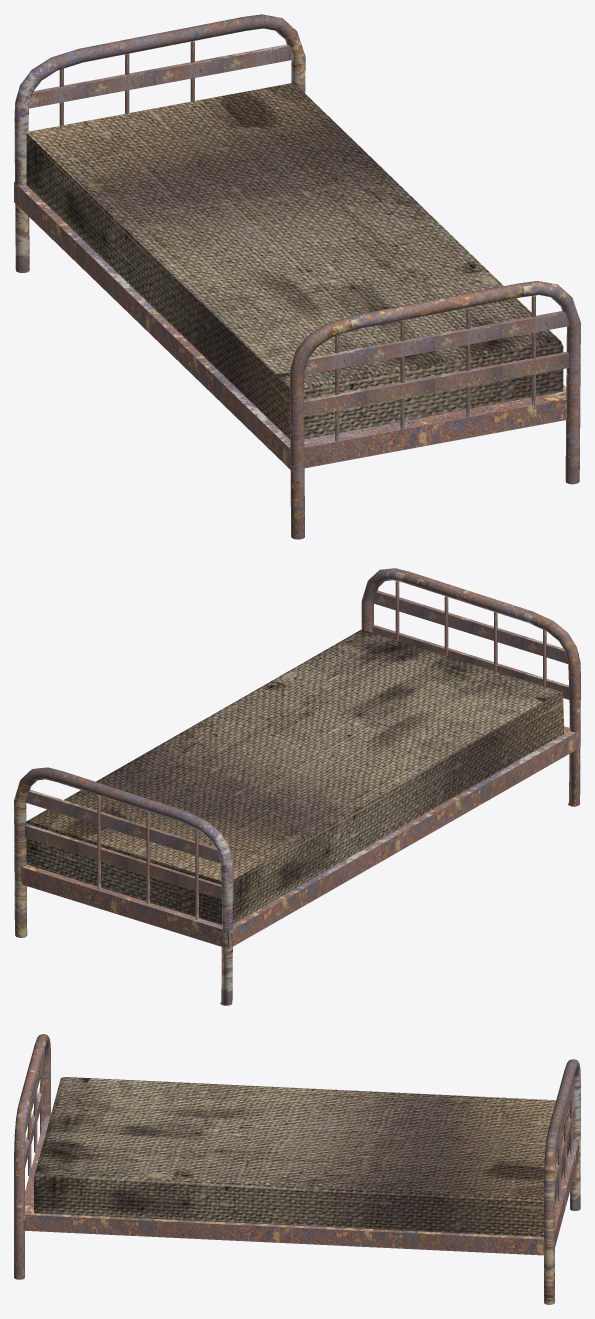
The model's file is bed.FBX.
3 renders of one model, top to bottom at view 1: azimuth 30°, elevation 25°; view 2: azimuth 150°, elevation 25°; view 3: azimuth 270°, elevation 25°, orthographic. The views are drawn at different scales.
Parts seen in each view (by area): view 1: Box001, Box002, Loft001, Loft002, Box004, Box005, Box003; view 2: Box001, Box002, Loft002, Loft001, Box006, Box005, Box003, Box004; view 3: Box001, Box002, Loft002, Loft001, Box006, Box004.
Part boxes in pixels (x1,y1,x2,y2): Box001: (26, 83, 563, 439); Box002: (14, 181, 566, 469); Loft001: (290, 281, 580, 539); Loft002: (14, 14, 305, 272); Box004: (303, 351, 569, 416); Box005: (20, 44, 293, 108); Box003: (295, 311, 569, 374); Box001: (26, 629, 563, 924); Box002: (21, 726, 578, 948); Loft002: (14, 767, 233, 1005); Loft001: (361, 568, 580, 806); Box006: (25, 824, 221, 898); Box005: (25, 789, 231, 863); Box003: (373, 590, 578, 663); Box004: (372, 625, 569, 699); Box001: (34, 1077, 569, 1237); Box002: (23, 1116, 578, 1255); Loft002: (544, 1059, 580, 1304); Loft001: (14, 1034, 50, 1279); Box006: (554, 1106, 575, 1193); Box004: (25, 1081, 45, 1167).
Size of the model in its own units: 14 by 8.36 by 26.17.
2 materials, 2 textured.
